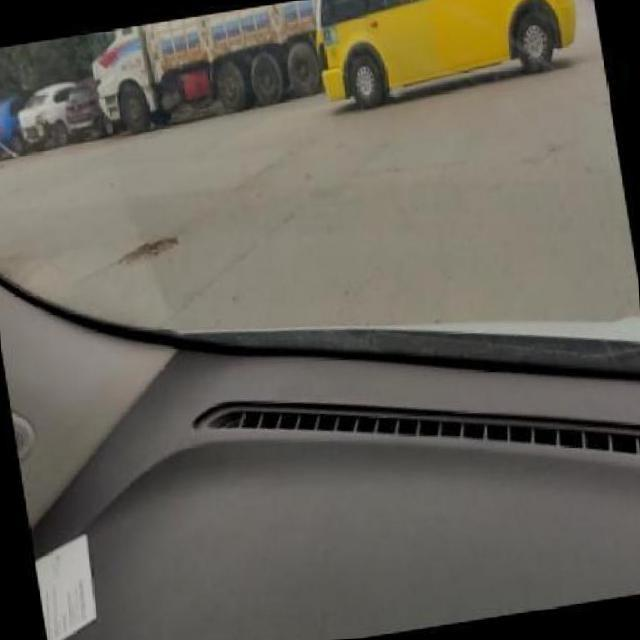Pothole: (114, 238, 179, 266)
